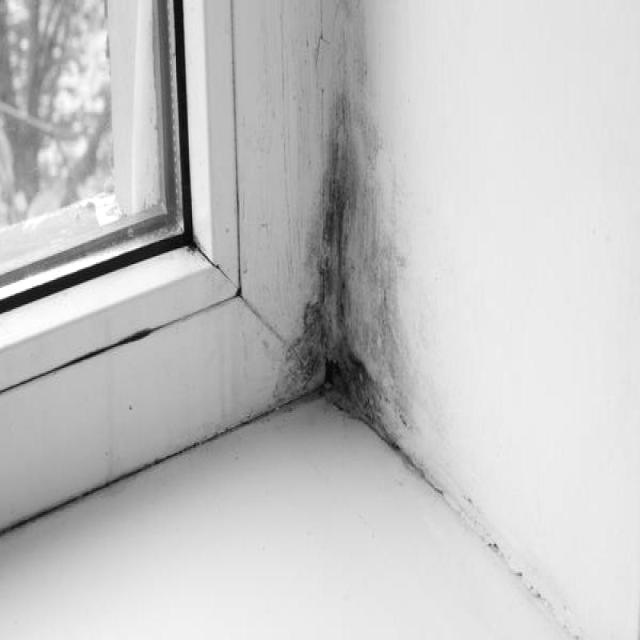stain marks: (176, 12, 526, 562)
